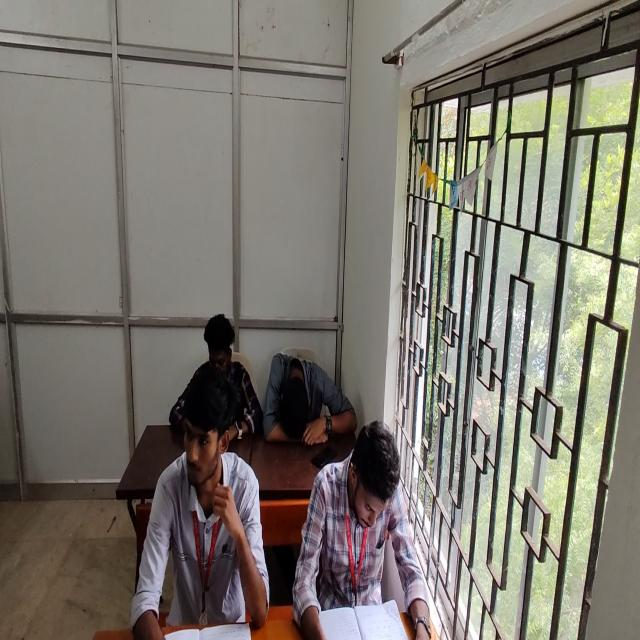reading: (294, 420, 419, 640)
sleeping: (266, 352, 356, 445)
turning: (132, 367, 270, 640)
using_mobile: (170, 314, 264, 439)
